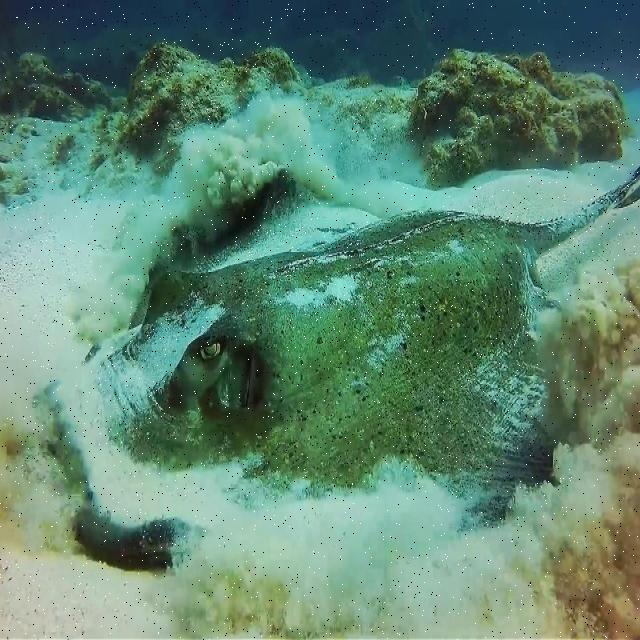fish: (34, 171, 639, 572)
sea-floor: (409, 48, 627, 187), (116, 43, 304, 178)
